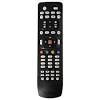remote control: (38, 4, 64, 100)
